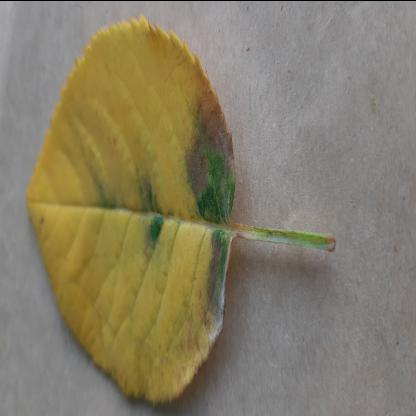black-spot: (26, 13, 235, 402)
